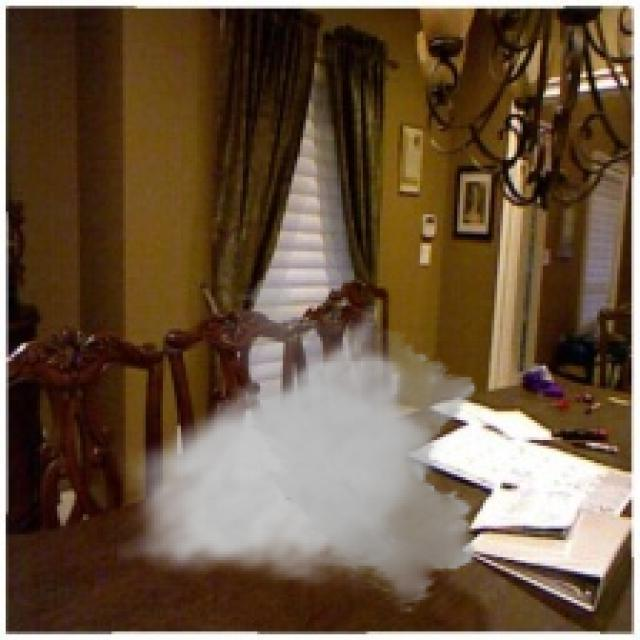Smoke: (117, 268, 486, 614)
